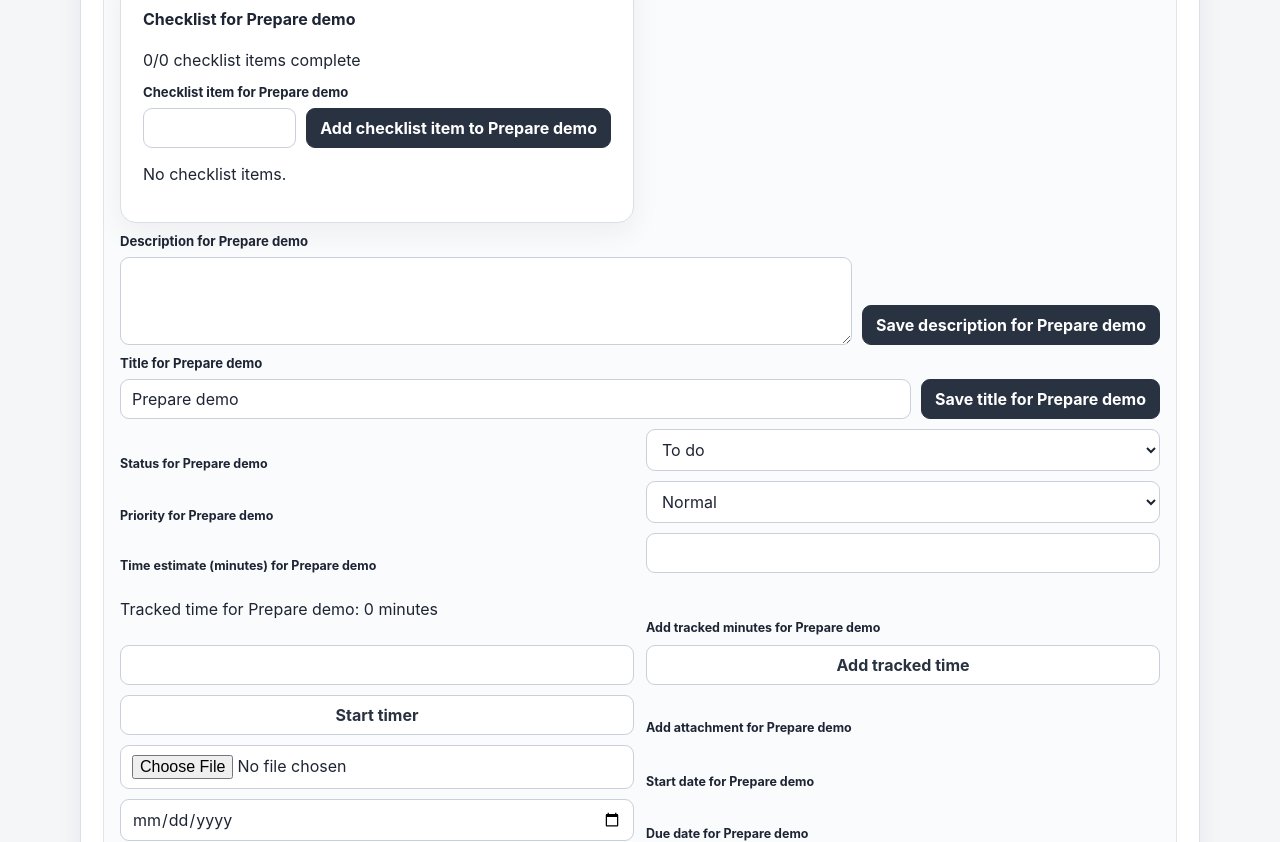
Test case: Automation command error surface and rollback › surfaces budget exhaustion without committing earlier Automation actions
The image size is (1280, 842).
(page scrolled)
Select "Doing" in the dropdown labelled "Status for Prepare demo" at (903, 450), box left=646, top=429, right=1160, bottom=471
(page scrolled)
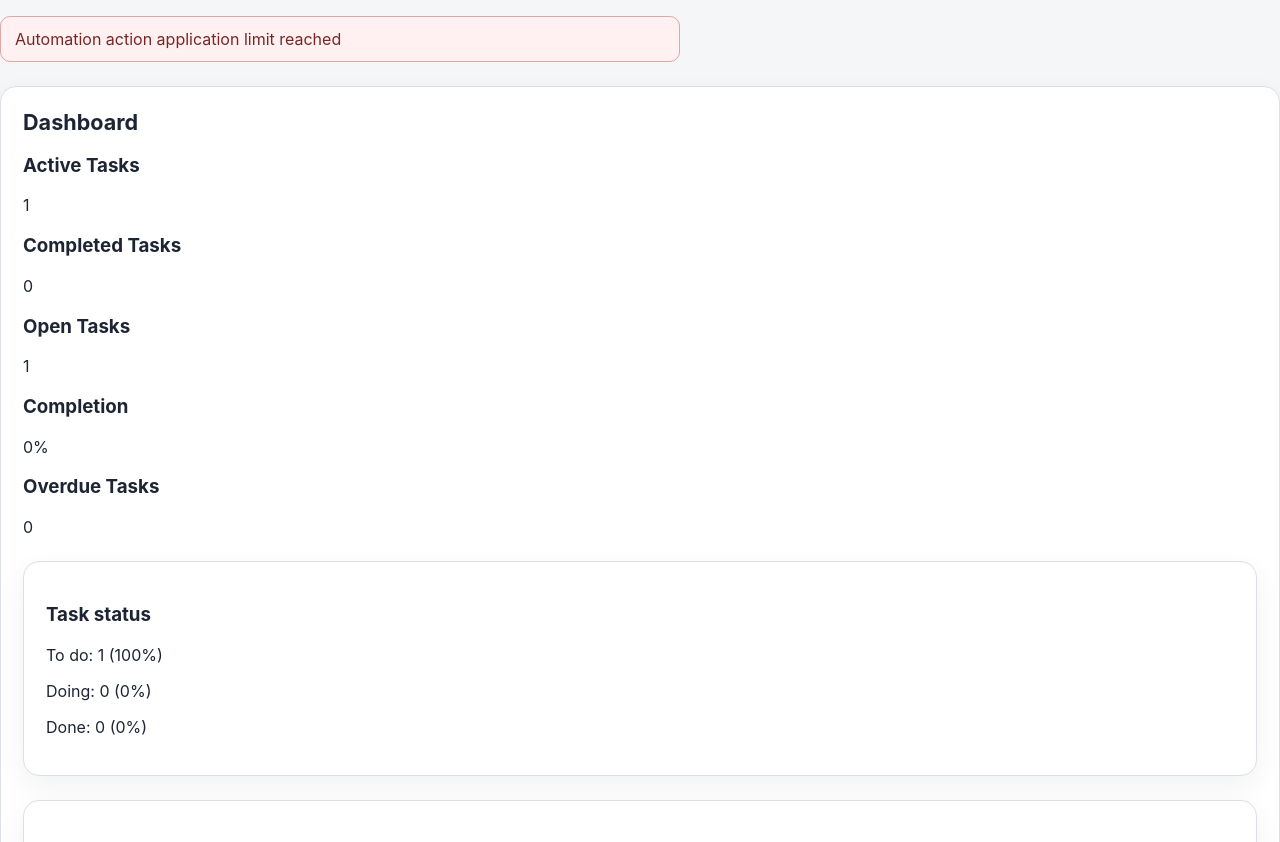
Check: the message reads "Automation action application limit reached", box left=15, top=29, right=341, bottom=49
